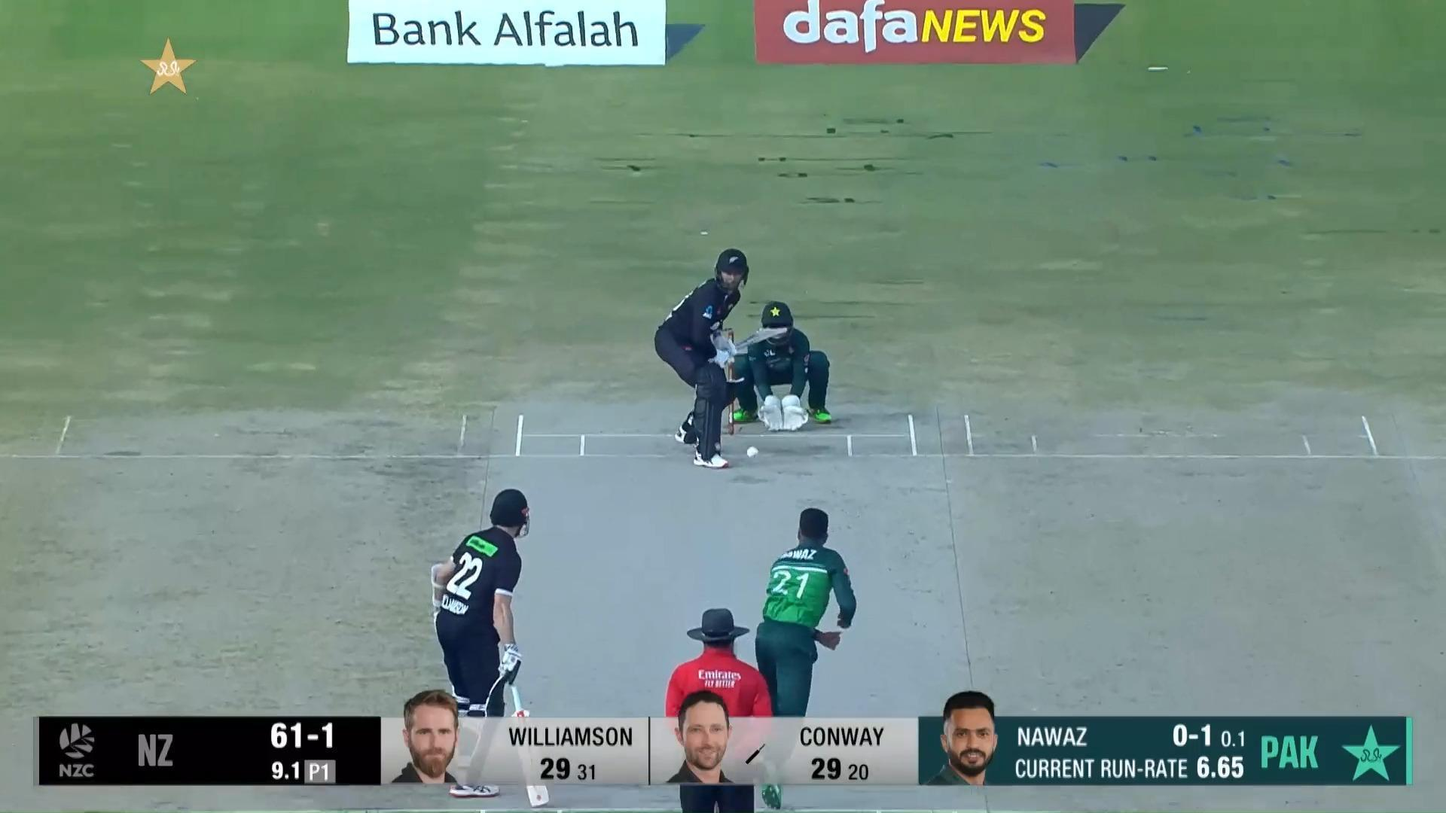BM 1: (654, 248, 789, 469)
BO: (753, 506, 858, 812)
